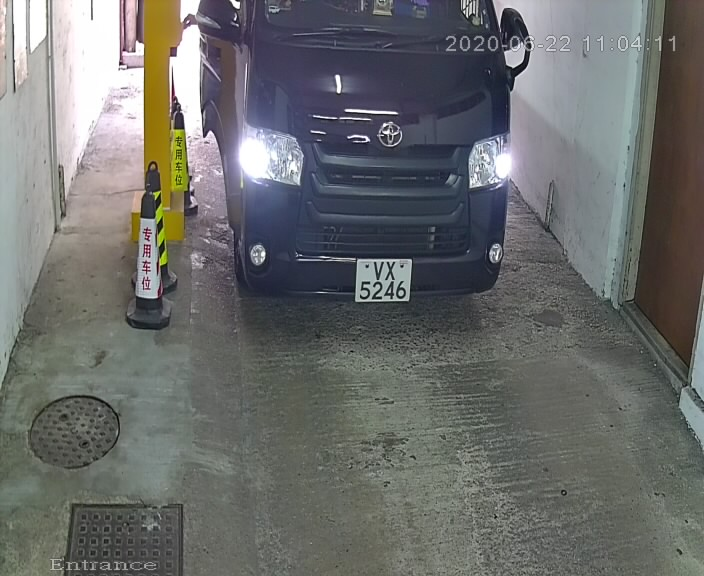van_s: (183, 1, 530, 330)
